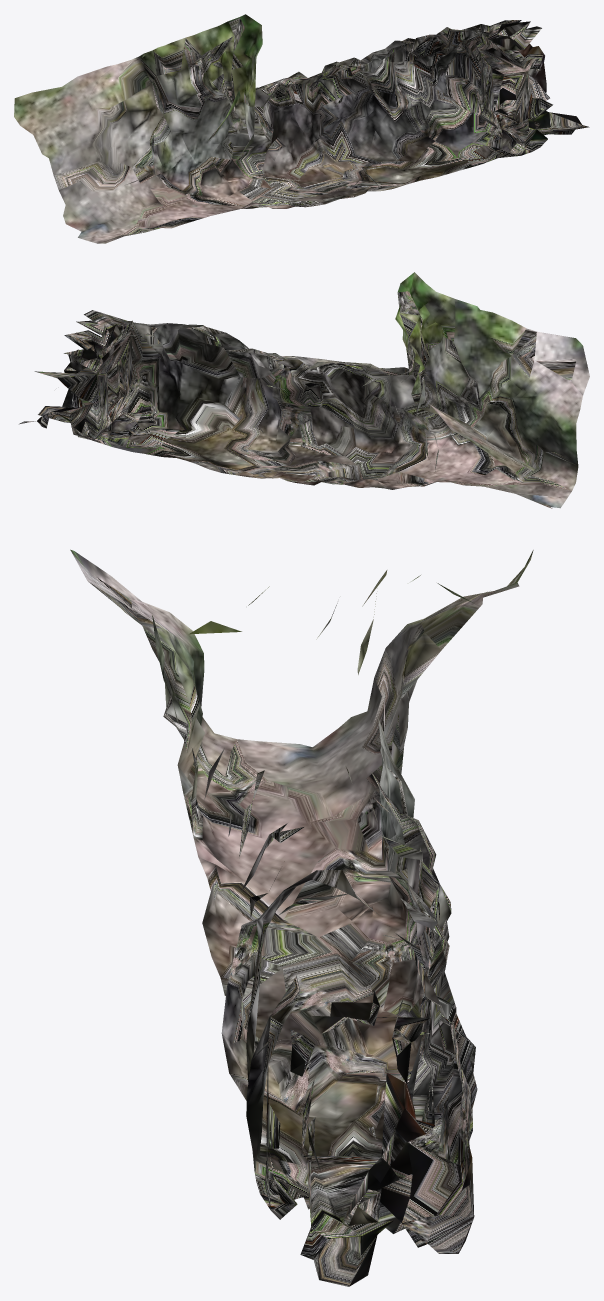
The model's file is mine-entrance.lod1.glb.
3 renders of one model, top to bottom at view 1: azimuth 30°, elevation 25°; view 2: azimuth 150°, elevation 25°; view 3: azimuth 270°, elevation 25°, orthographic. The views are drawn at different scales.
Visible parts, largest first — view 1: Object_5; view 2: Object_5; view 3: Object_5.
Part boxes in pixels (x1,y1,x2,y2): Object_5: (14,14,589,243); Object_5: (19,272,589,508); Object_5: (70,549,533,1286).
Size of the model in its own units: 35.81 by 13.83 by 13.87.
1 material, 1 textured.
